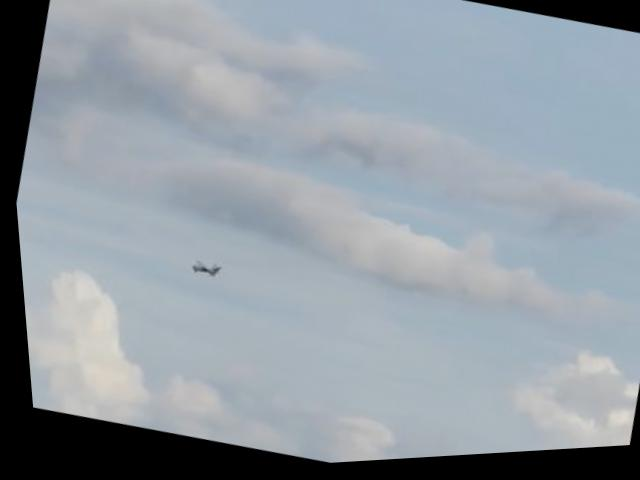uav: (181, 253, 219, 284)
